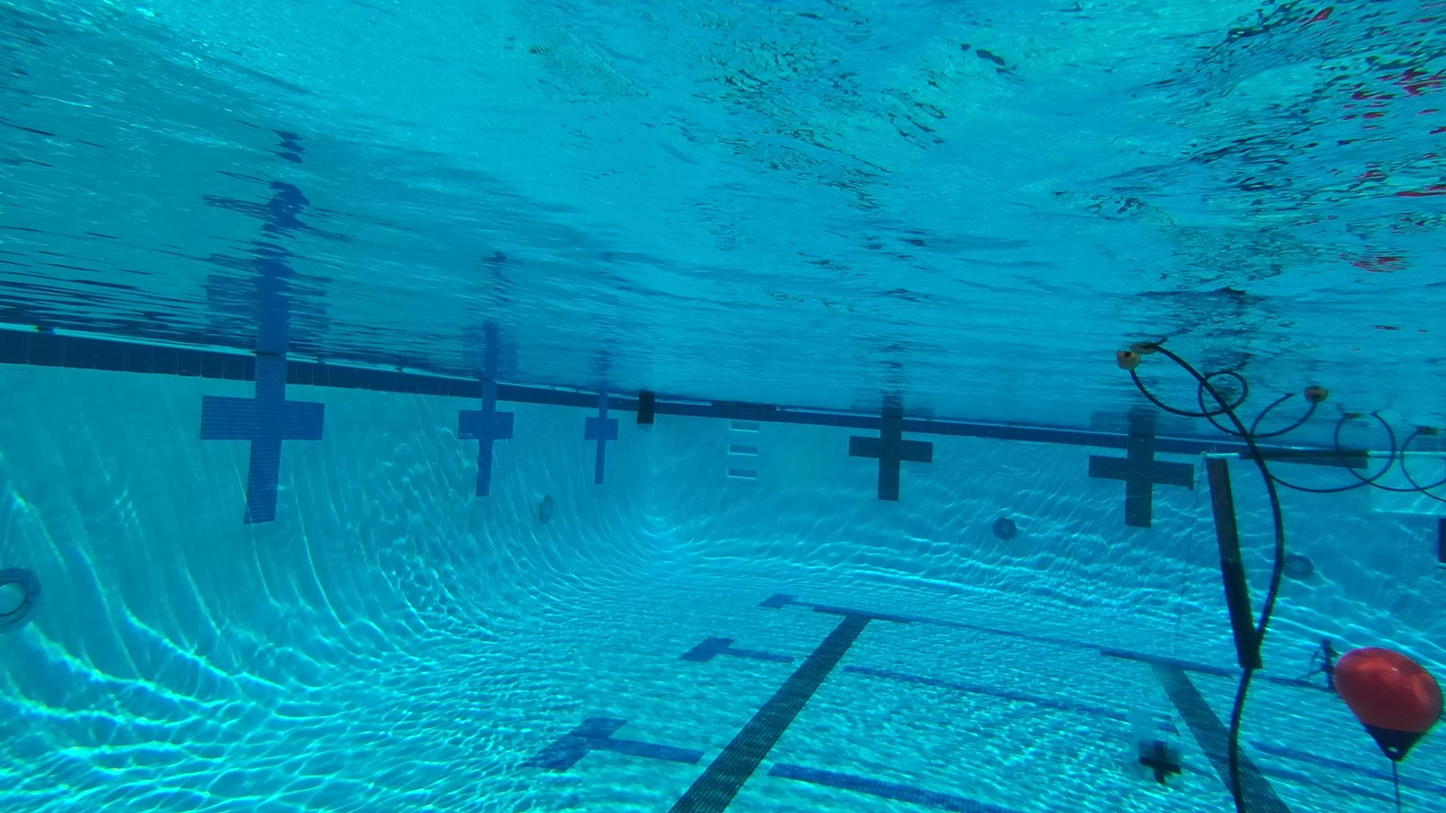buoy: (1332, 644, 1442, 764)
